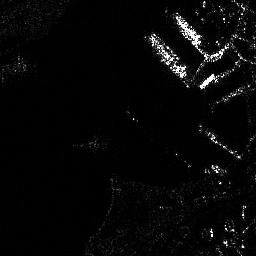ship: (147, 32, 186, 77), (173, 13, 203, 45)
